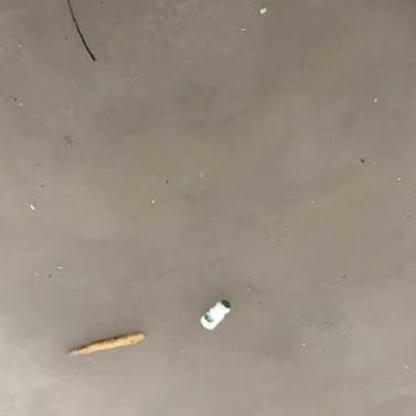plastic bottle: (200, 299, 232, 330)
